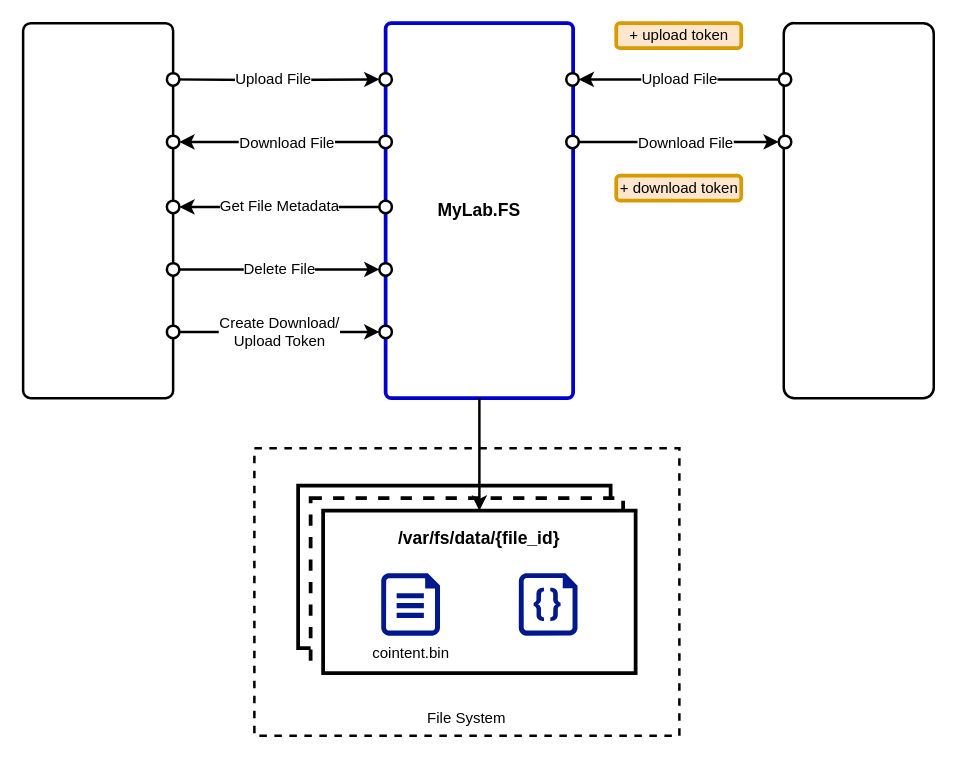
Some shapes in this 956 by 759 pixel diagram are drawn without their labels. Here are the shapes that lost their labels. From the top down, the centre of each, then its label:
the point at 97,210: Trused Service
the point at 858,210: External Client
the point at 547,603: metadata.json
